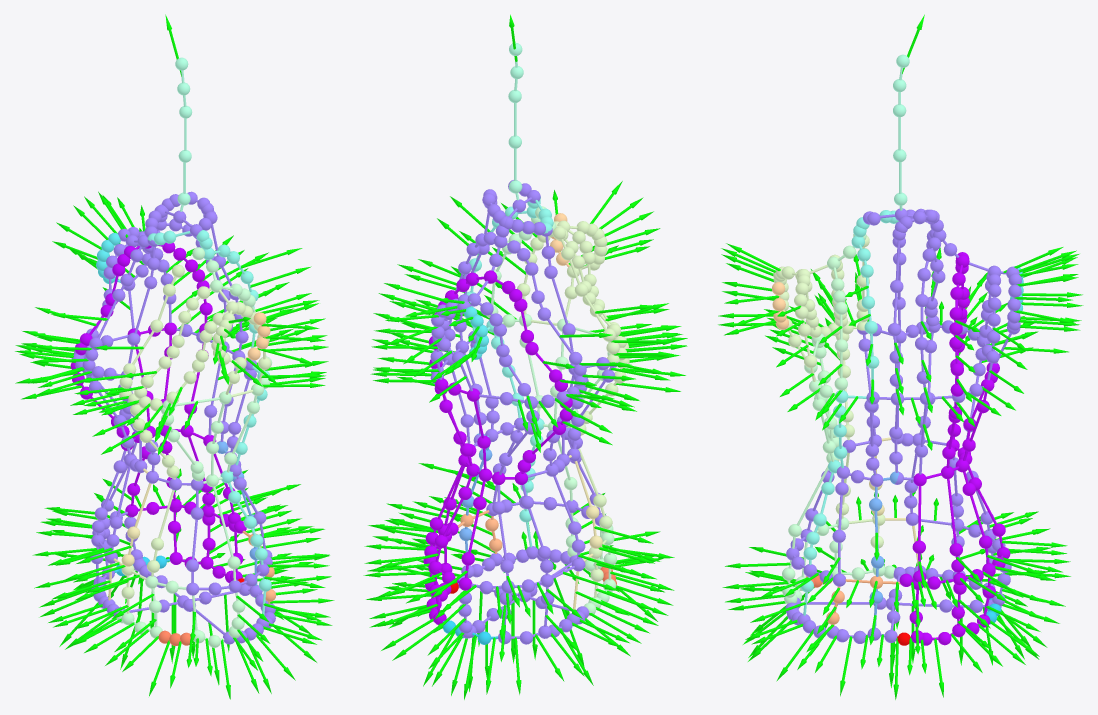
Rendered from curvefusion_bust.gltf.
The picture shows the model from 3 angles, left to right: view 1: azimuth 30°, elevation 25°; view 2: azimuth 150°, elevation 25°; view 3: azimuth 270°, elevation 25°; orthographic projection. The views are drawn at different scales.
Size of the model in its own units: 0.4451 by 1.07 by 0.5461.
